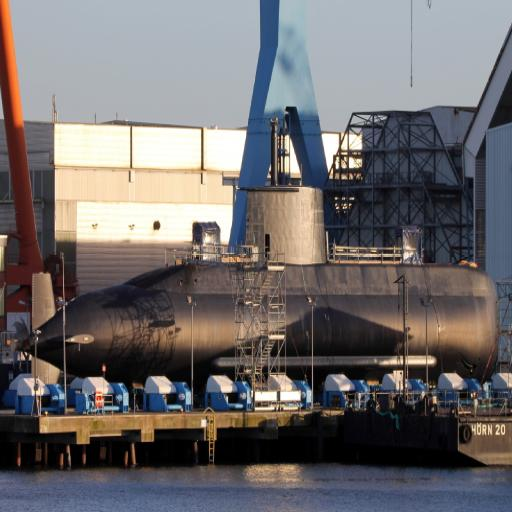submarine: (2, 114, 495, 381)
